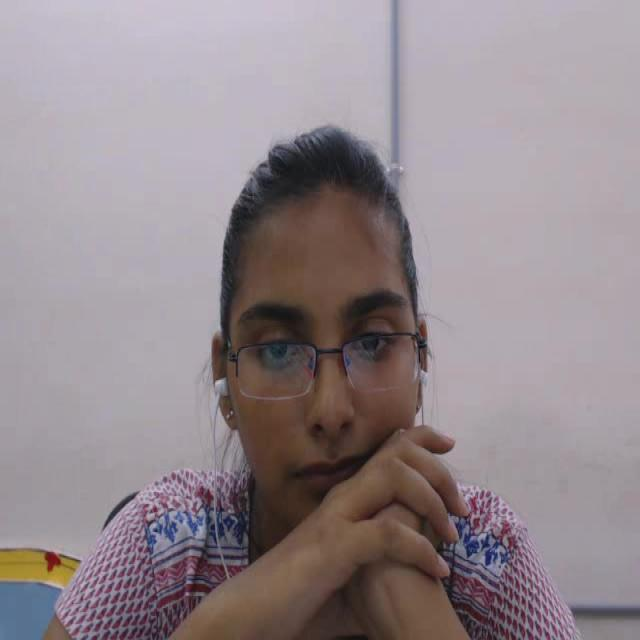Bored: (193, 98, 472, 558)
